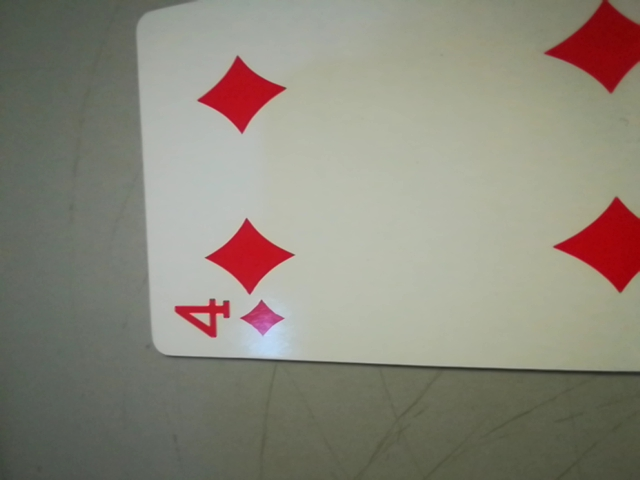fk 4: (159, 289, 291, 351)
